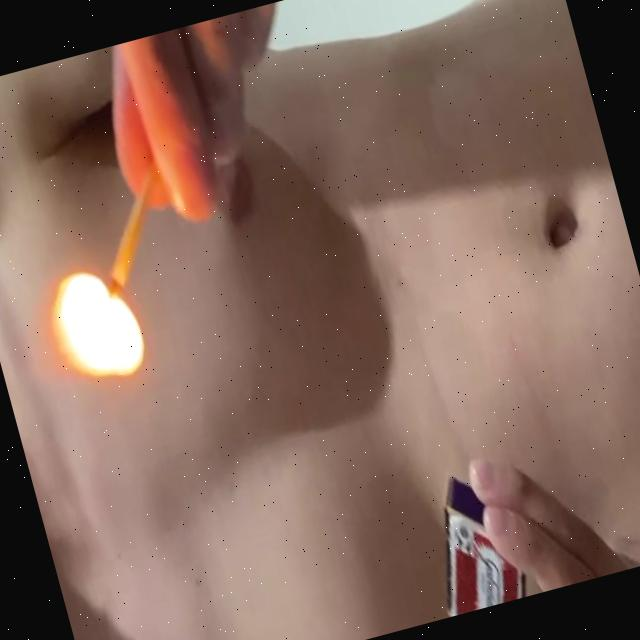fire: (0, 257, 154, 411)
